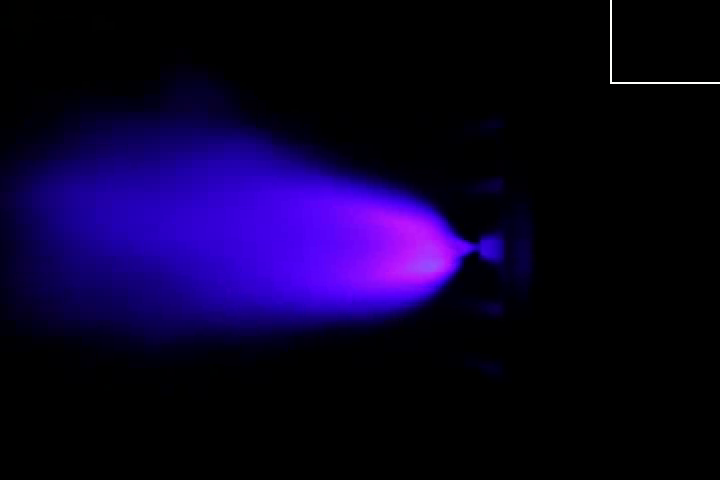burner cap: (479, 233, 509, 268)
unstable: (319, 164, 482, 326)
